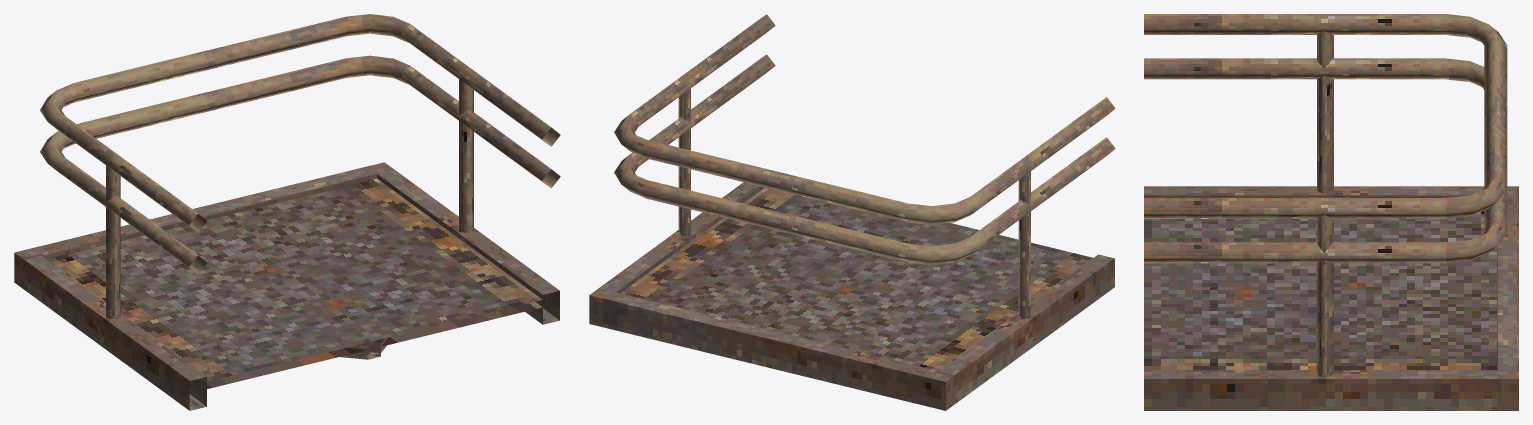
File: bridges_end.glb
3 renders of one model, left to right at view 1: azimuth 30°, elevation 25°; view 2: azimuth 150°, elevation 25°; view 3: azimuth 270°, elevation 25°, orthographic. The views are drawn at different scales.
Parts seen in each view (by area): view 1: Bridges_end; view 2: Bridges_end; view 3: Bridges_end.
Part boxes in pixels (bbox=[...]): Bridges_end: bbox=[14, 14, 560, 410]; Bridges_end: bbox=[589, 14, 1115, 410]; Bridges_end: bbox=[1144, 14, 1518, 410].
Bounding box in the file's own units: 2.1 × 1.05 × 1.72.
Materials: 1 (1 with a texture image).
